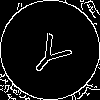Y: (25, 25, 79, 81)
